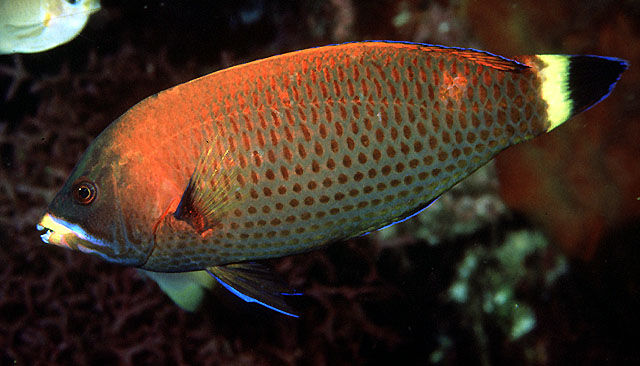fish: (37, 40, 630, 320)
